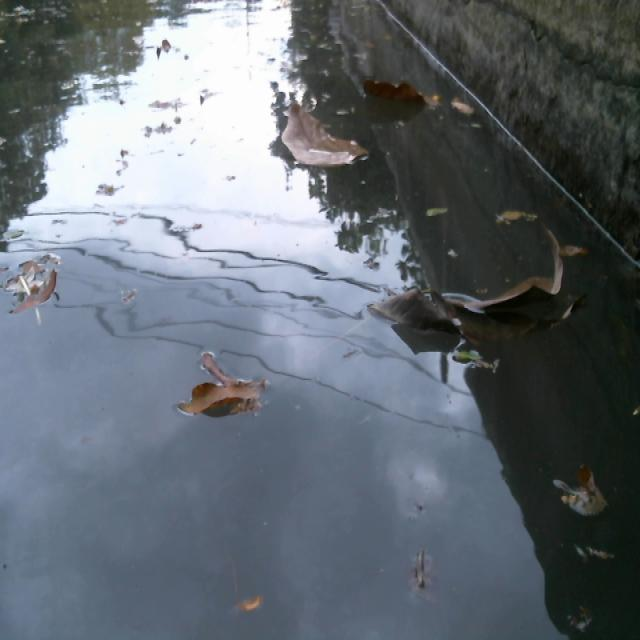Big-leaf: (379, 218, 565, 352), (171, 350, 284, 432), (276, 103, 378, 176), (362, 70, 443, 120)
Small-leaf: (549, 452, 611, 518), (0, 267, 76, 320), (390, 536, 445, 601), (482, 188, 547, 225), (438, 87, 489, 130), (562, 237, 603, 278), (412, 210, 458, 238), (235, 586, 273, 615)
